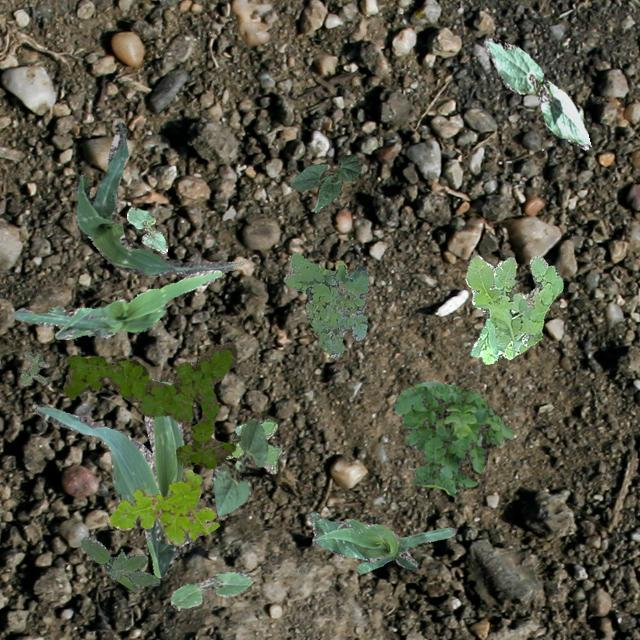crop: (35, 380, 192, 576), (75, 121, 244, 276), (12, 268, 220, 338), (482, 38, 590, 148), (306, 510, 454, 572), (210, 416, 266, 516), (290, 154, 360, 212), (170, 570, 252, 610), (126, 205, 166, 252)
weed: (62, 341, 235, 468), (390, 380, 512, 496), (464, 252, 562, 364), (282, 252, 368, 358), (106, 468, 218, 544), (80, 536, 158, 590), (224, 418, 280, 472), (20, 349, 48, 384)
